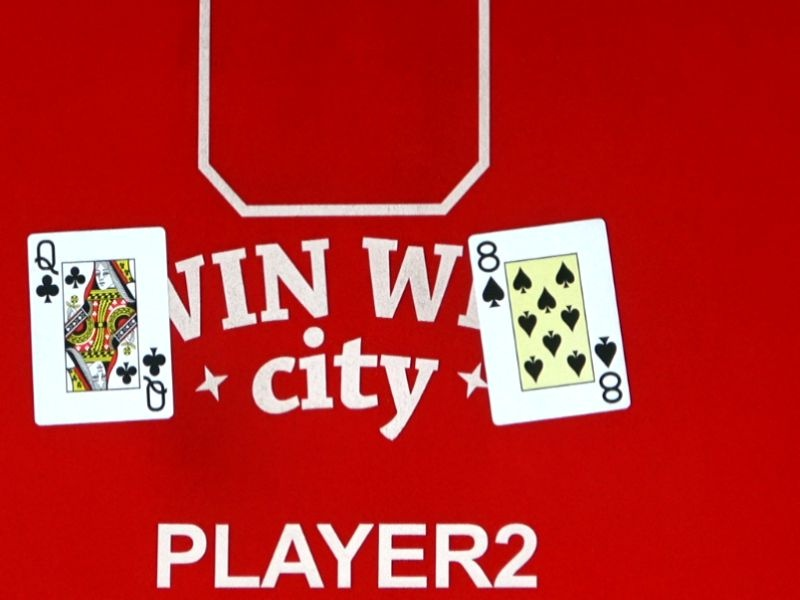8S: (451, 238, 532, 311), (570, 335, 650, 407)
QC: (113, 347, 191, 418), (10, 237, 87, 307)
